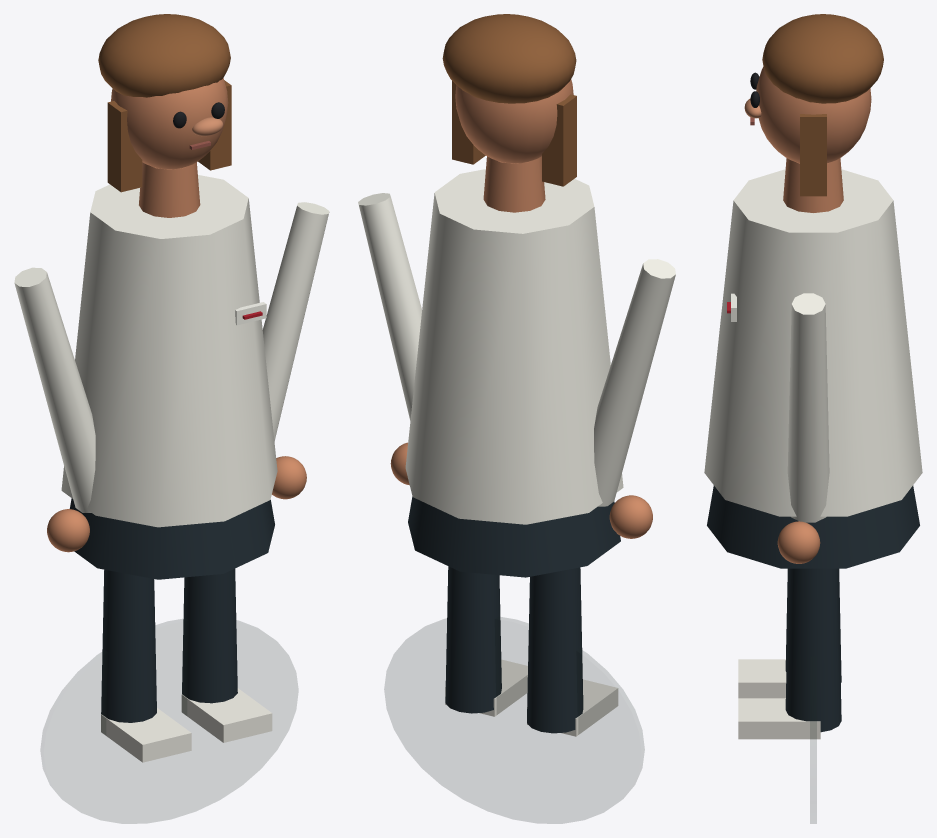
Rendered from staff_07_sgk.glb.
3 renders of one model, left to right at view 1: azimuth 30°, elevation 25°; view 2: azimuth 150°, elevation 25°; view 3: azimuth 270°, elevation 25°, orthographic. The views are drawn at different scales.
Visible parts, largest first — view 1: torso, contact_shadow, skirt, hair_cap, arm_-0.255, leg_-0.095, leg_0.095, arm_0.255, head, shoe_0.095, shoe_-0.095, neck (+4 smaller); view 2: torso, contact_shadow, skirt, hair_cap, arm_-0.255, leg_-0.095, leg_0.095, arm_0.255, head, neck, side_hair_-0.105, hand_-0.255 (+3 smaller); view 3: torso, skirt, hair_cap, arm_0.255, leg_0.095, head, shoe_0.095, side_hair_0.105, neck, shoe_-0.095, hand_0.255, contact_shadow.
Boxes of the visible parts, bbox=[...] form: torso: bbox=[61, 175, 277, 527]; contact_shadow: bbox=[41, 619, 297, 823]; skirt: bbox=[69, 498, 274, 579]; hair_cap: bbox=[98, 14, 230, 97]; arm_-0.255: bbox=[14, 267, 95, 512]; leg_-0.095: bbox=[101, 569, 156, 722]; leg_0.095: bbox=[182, 568, 237, 703]; arm_0.255: bbox=[262, 202, 329, 441]; head: bbox=[111, 78, 228, 169]; shoe_0.095: bbox=[181, 688, 272, 742]; shoe_-0.095: bbox=[101, 708, 191, 762]; neck: bbox=[139, 162, 200, 217]; torso: bbox=[405, 169, 623, 524]; contact_shadow: bbox=[384, 617, 644, 823]; skirt: bbox=[408, 496, 620, 577]; hair_cap: bbox=[442, 14, 576, 103]; arm_-0.255: bbox=[594, 259, 675, 506]; leg_-0.095: bbox=[527, 567, 583, 733]; leg_0.095: bbox=[445, 566, 501, 713]; arm_0.255: bbox=[358, 193, 421, 420]; head: bbox=[455, 79, 573, 163]; neck: bbox=[483, 156, 545, 212]; side_hair_-0.105: bbox=[542, 94, 576, 186]; hand_-0.255: bbox=[609, 495, 652, 538]; torso: bbox=[704, 169, 922, 516]; skirt: bbox=[707, 485, 919, 568]; hair_cap: bbox=[762, 14, 883, 103]; arm_0.255: bbox=[787, 293, 829, 522]; leg_0.095: bbox=[785, 568, 841, 732]; head: bbox=[756, 67, 871, 163]; shoe_0.095: bbox=[738, 698, 820, 739]; side_hair_0.105: bbox=[800, 114, 826, 196]; neck: bbox=[783, 158, 843, 212]; shoe_-0.095: bbox=[738, 659, 786, 698]; hand_0.255: bbox=[777, 521, 820, 563]; contact_shadow: bbox=[810, 657, 816, 823].
Bounding box in the file's own units: 0.7069 × 1.73 × 0.4365.
